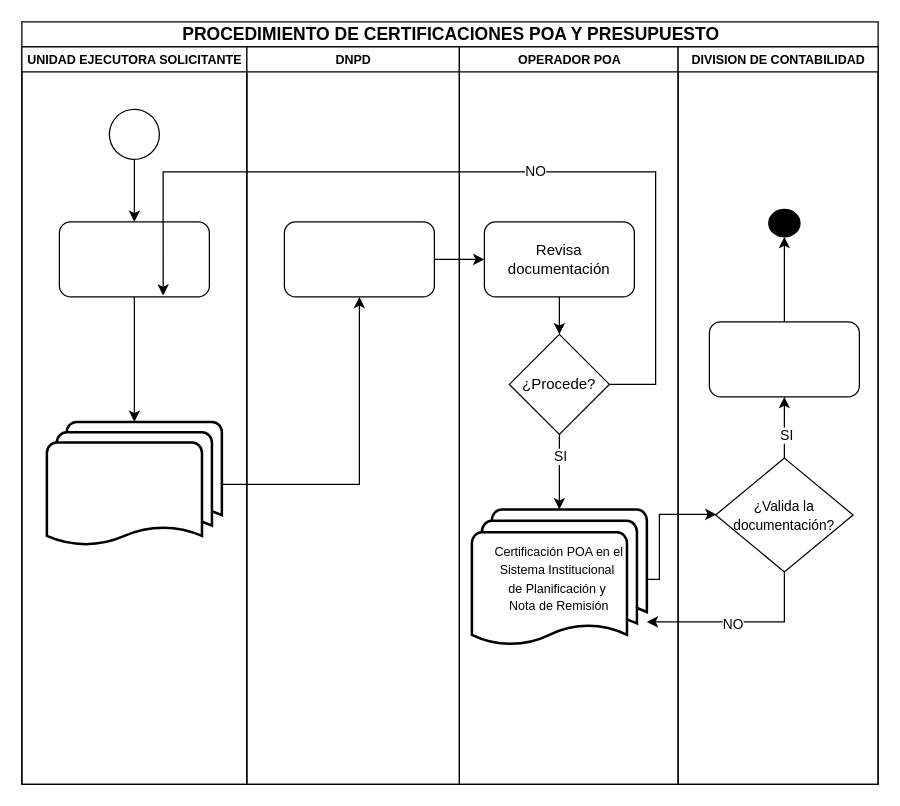
The diagram is 900 pixels wide and 806 high, and some of its shapes have lost their labels. The shapes that lost their labels are listed below. From the top down, each one's centre as x and y in pixels, then its label:
[133,259]: Solicita certificación POA
[358,259]: Recepciona y deriva al operador POA
[783,359]: Entrega Certificación POA/PPTO
[133,484]: Adjunta nota con documentos de respaldo
